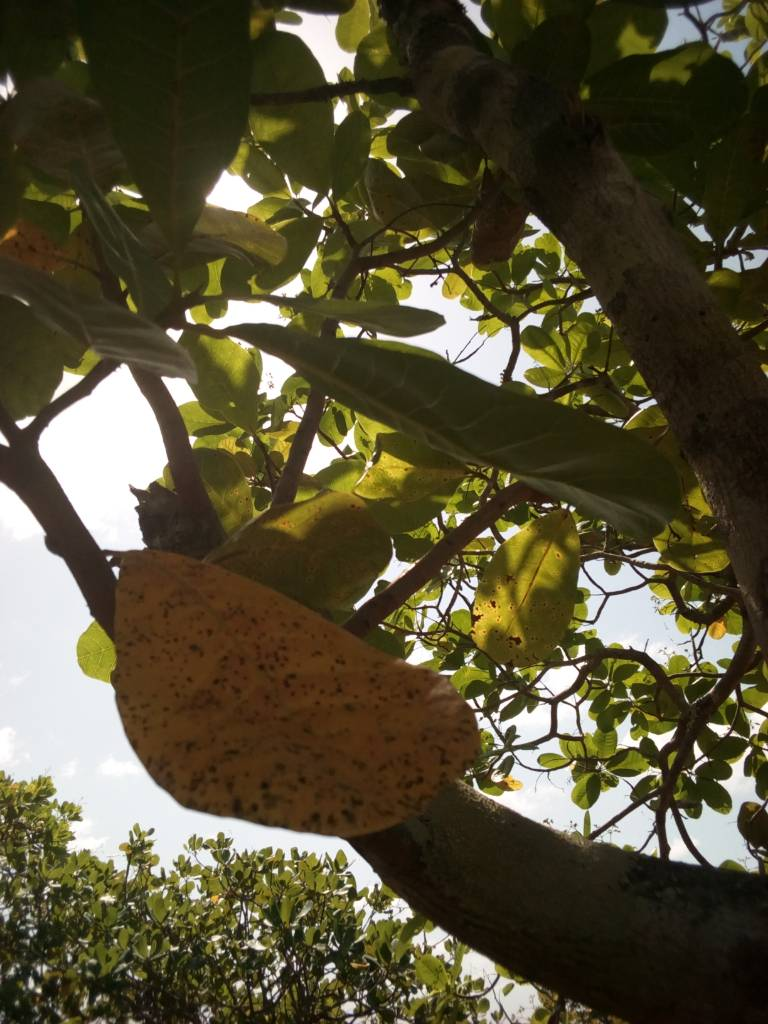Anthracnose: (113, 550, 479, 836)
